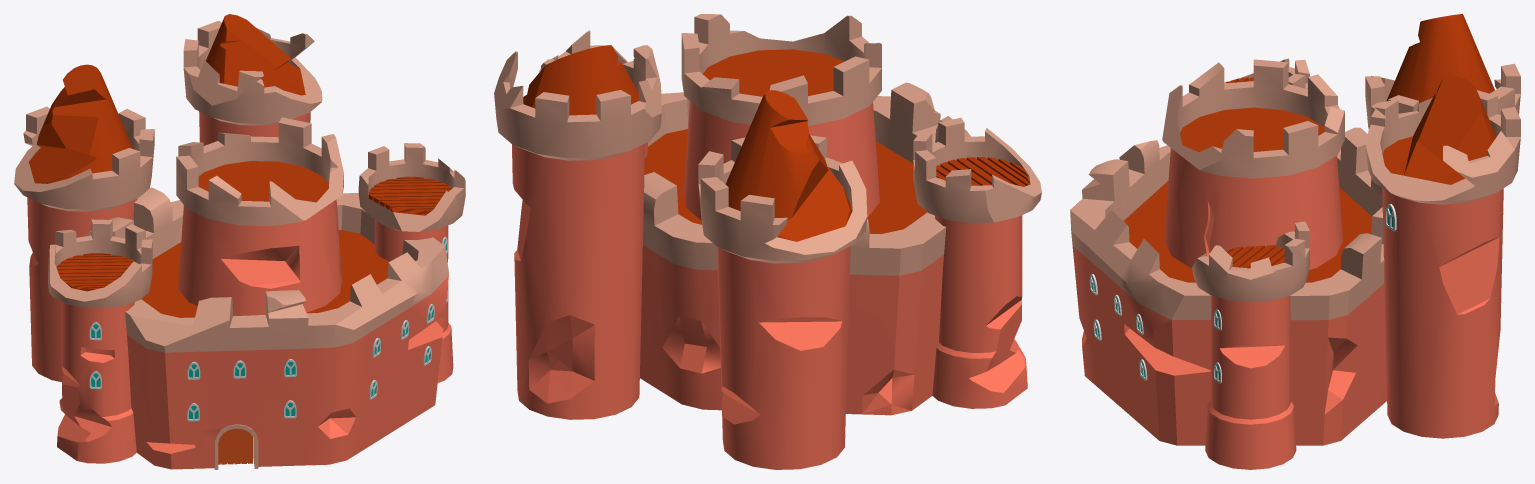
File: CS_Big_Castle_Stage02.fbx
3 renders of one model, left to right at view 1: azimuth 30°, elevation 25°; view 2: azimuth 150°, elevation 25°; view 3: azimuth 270°, elevation 25°, orthographic. The views are drawn at different scales.
Parts seen in each view (by area): view 1: Big_Castle_Stage2; view 2: Big_Castle_Stage2; view 3: Big_Castle_Stage2.
Boxes of the visible parts, x1,y1,x2,y2 form: Big_Castle_Stage2: (14,14,465,469); Big_Castle_Stage2: (494,14,1041,469); Big_Castle_Stage2: (1070,14,1520,469).
Bounding box in the file's own units: 962 × 682 × 853.
